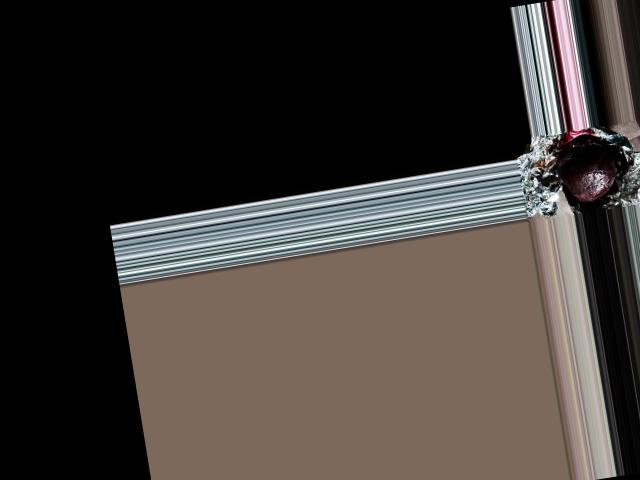beet: (552, 141, 621, 206)
